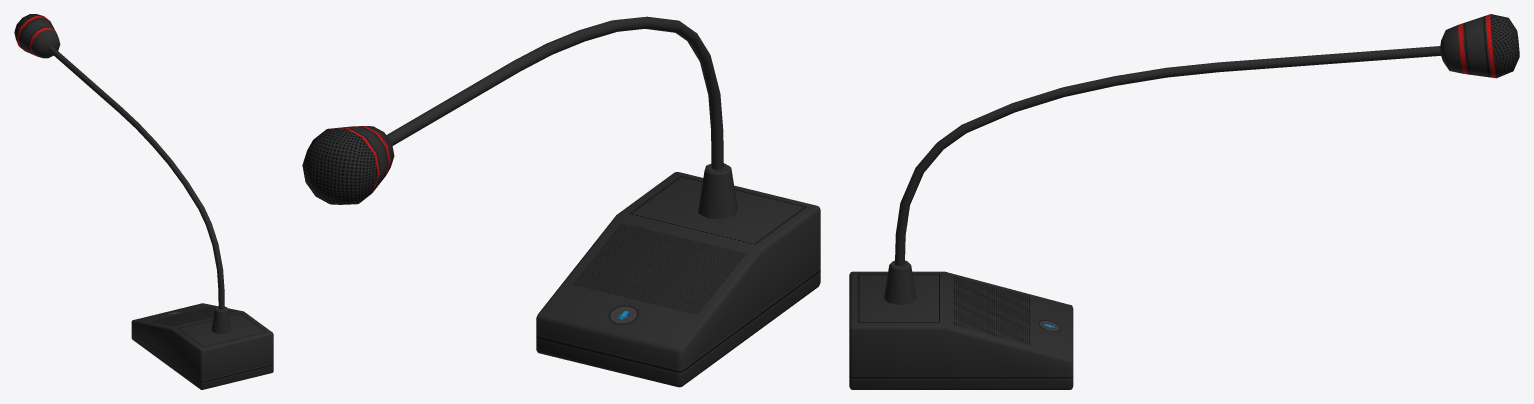
File: conference mic.FBX
3 renders of one model, left to right at view 1: azimuth 30°, elevation 25°; view 2: azimuth 150°, elevation 25°; view 3: azimuth 270°, elevation 25°, orthographic. The views are drawn at different scales.
Parts seen in each view (by area): view 1: conference mic; view 2: conference mic; view 3: conference mic.
Part boxes in pixels (left/top/right/bottom): conference mic: left=14, top=14, right=273, bottom=389; conference mic: left=302, top=16, right=820, bottom=387; conference mic: left=849, top=14, right=1519, bottom=389.
Bounding box in the file's own units: 4.02 × 20.07 × 11.43.
1 material, 1 textured.
